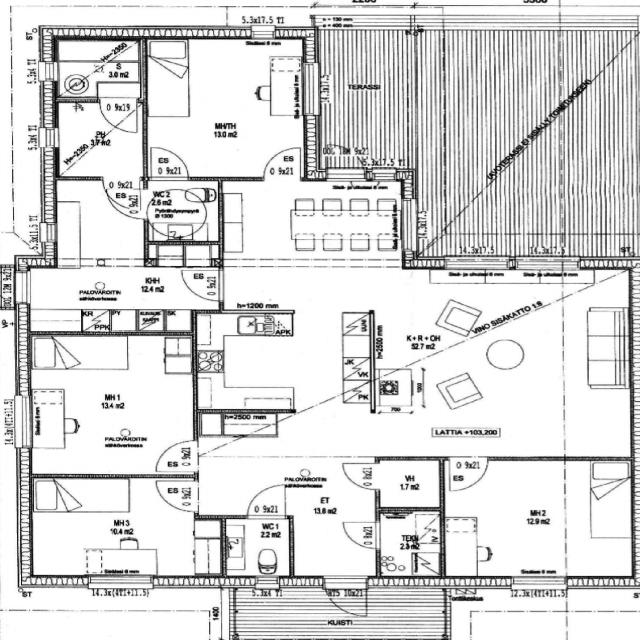door: (324, 574, 366, 622), (327, 138, 364, 181), (154, 440, 198, 472), (180, 270, 224, 301), (154, 480, 198, 511), (449, 457, 487, 492), (247, 484, 285, 518), (105, 188, 147, 218), (151, 147, 188, 181), (99, 98, 136, 132), (264, 148, 300, 181), (103, 177, 139, 210), (342, 522, 380, 548), (343, 463, 380, 489), (0, 272, 31, 302)
